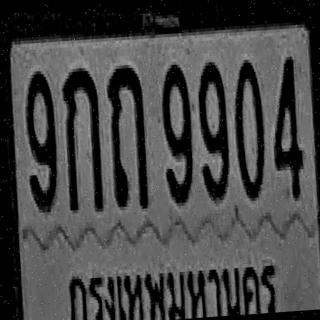A01: (60, 65, 105, 212)
A22: (106, 64, 150, 207)
N00: (230, 55, 268, 198)
N04: (267, 53, 305, 199)
N09: (158, 60, 196, 204), (22, 68, 60, 212), (195, 60, 231, 199)
P04: (62, 236, 283, 320)
